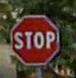stop: (9, 13, 58, 65)
